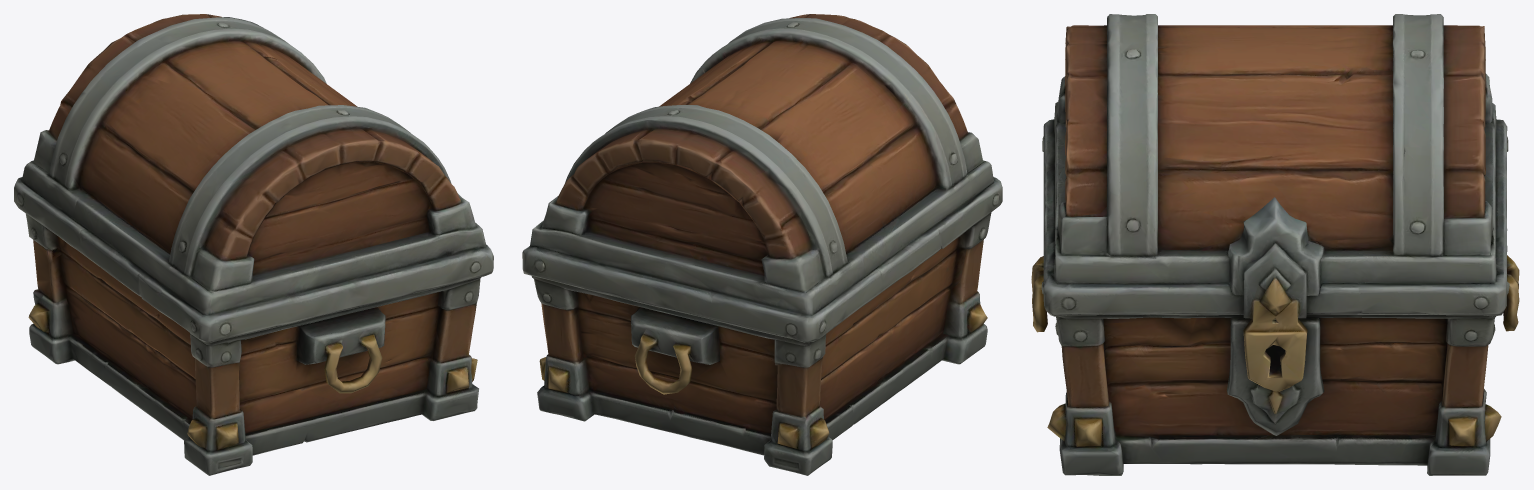
File: cofre.glb
3 views of the same model, side by side, from view 1: azimuth 30°, elevation 25°; view 2: azimuth 150°, elevation 25°; view 3: azimuth 270°, elevation 25° (orthographic). The views are drawn at different scales.
Parts seen in each view (by area): view 1: tripo_node_ec3971ae-8af2-4924-beb4-349196f38ea6; view 2: tripo_node_ec3971ae-8af2-4924-beb4-349196f38ea6; view 3: tripo_node_ec3971ae-8af2-4924-beb4-349196f38ea6.
Part boxes in pixels (x1,y1,x2,y2): tripo_node_ec3971ae-8af2-4924-beb4-349196f38ea6: [14, 14, 493, 475]; tripo_node_ec3971ae-8af2-4924-beb4-349196f38ea6: [522, 14, 1002, 475]; tripo_node_ec3971ae-8af2-4924-beb4-349196f38ea6: [1031, 14, 1519, 475].
Bounding box in the file's own units: 0.881 × 0.8304 × 1.
1 material, 1 textured.
